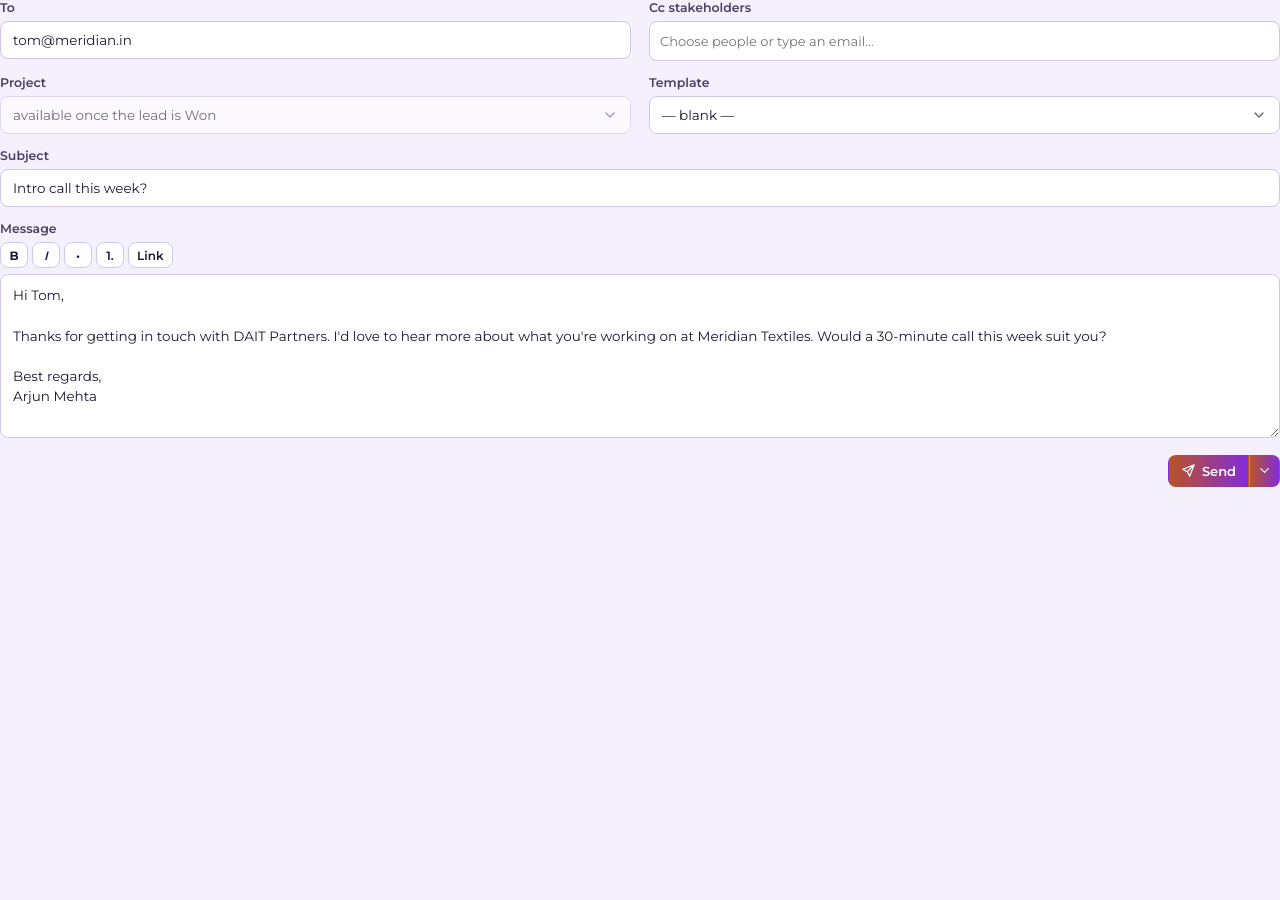
Test: lead email form: the one send path (web-mail release 3) › lead page: Send opens the follow-up box (no follow-up-days control), then the Undo toast; the request goes through /api/mail/drafts
What coordinates should you click on to do the following:
click the button "Send"
I would click on:
 (1208, 471)
Its box is x1=1168 y1=455 x2=1249 y2=487.
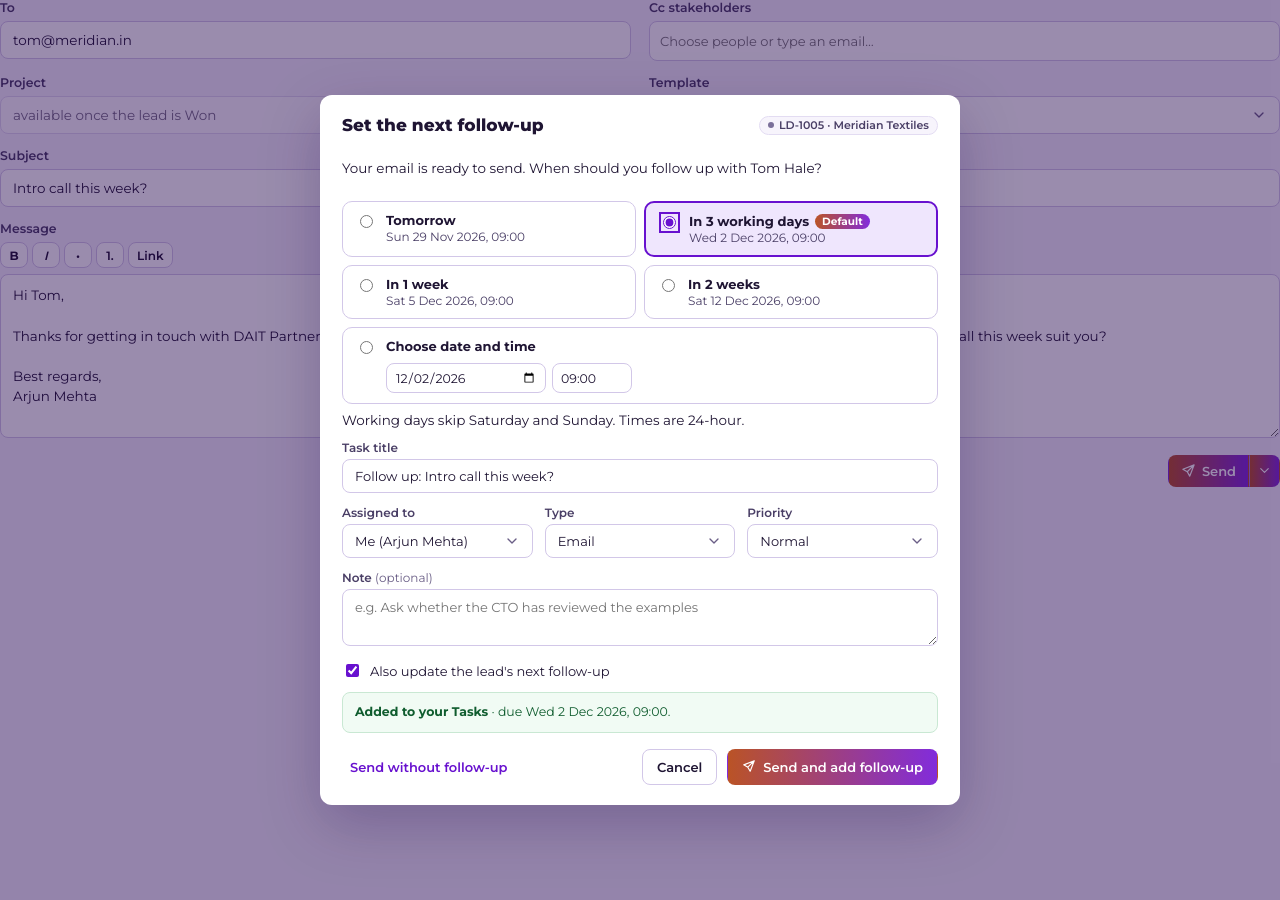
What coordinates should you click on to do the following:
click the button "Send and add follow-up"
I would click on:
 (833, 767)
Its box is x1=727 y1=749 x2=938 y2=785.
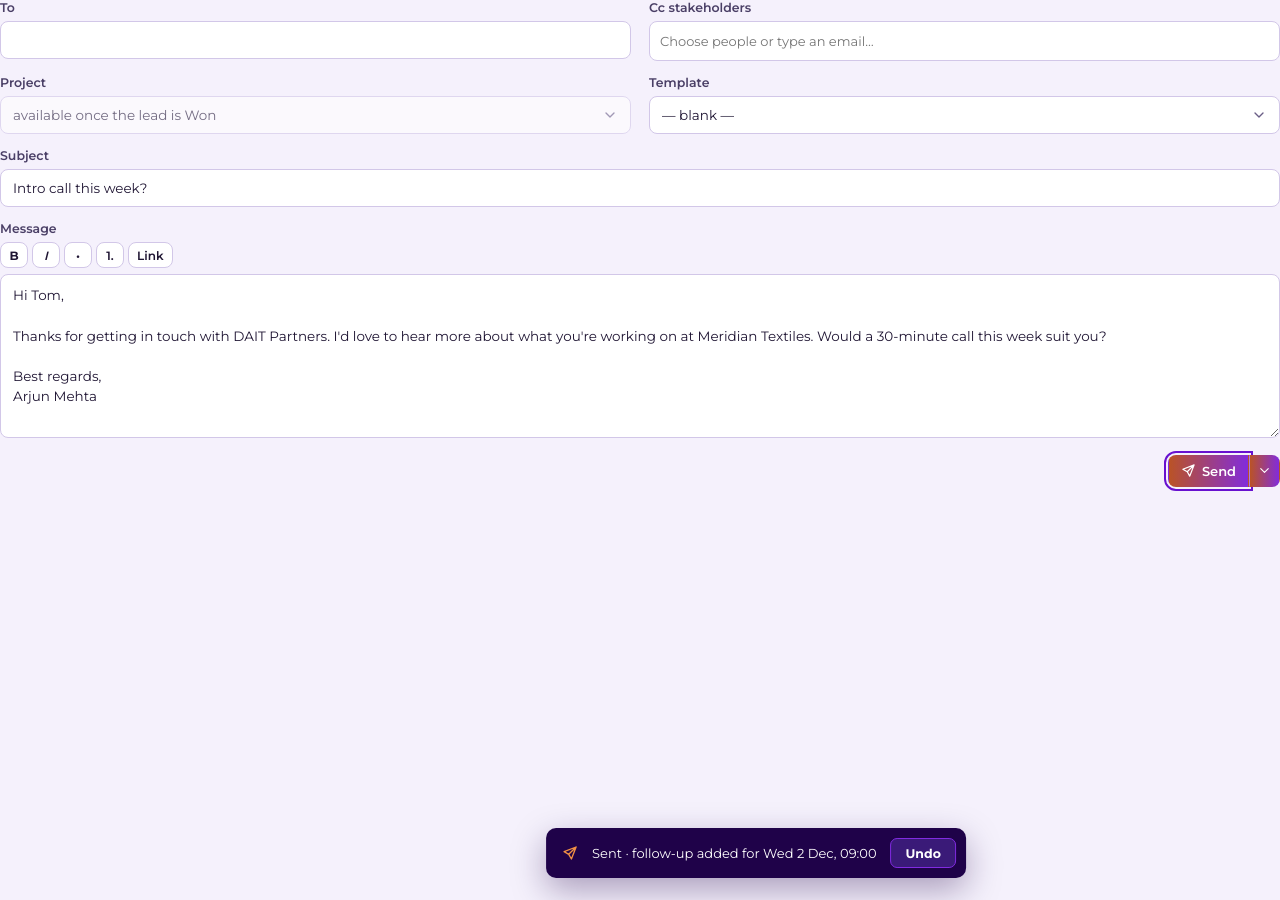
Expected: the text "Sent · follow-up added for Wed 2 Dec, 09:00" is shown, x1=592 y1=845 x2=876 y2=861
Expected: the field labelled "To" is empty, x1=0 y1=21 x2=631 y2=59
